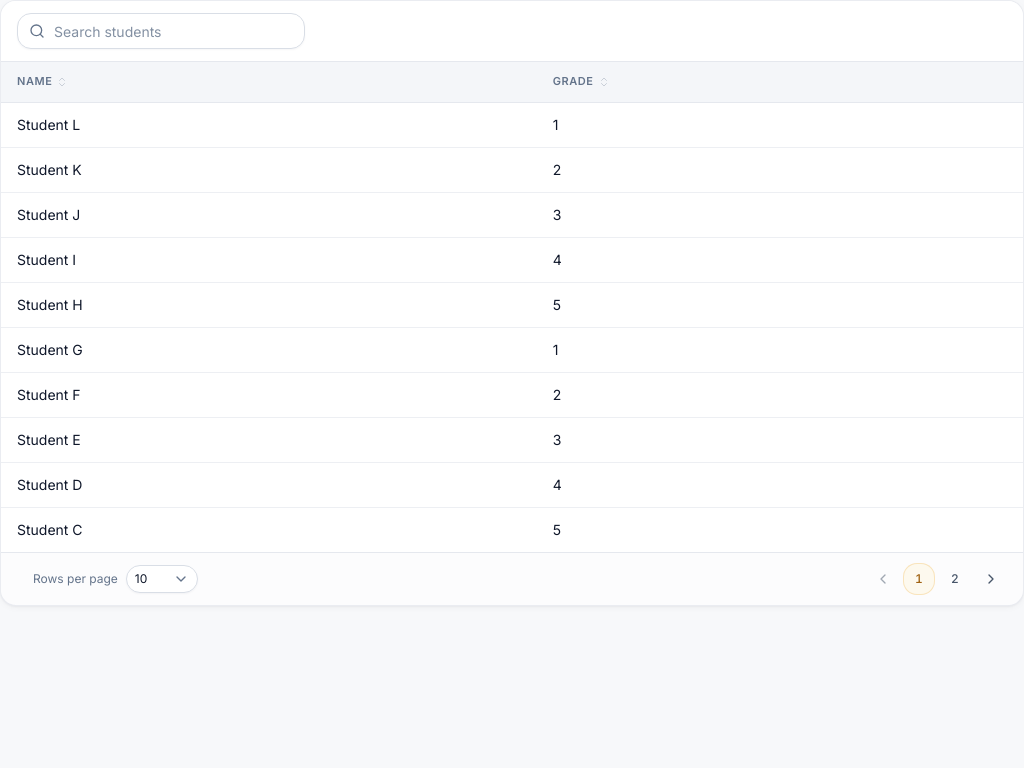
Scenario: DataTable › searches nested row data and offers to clear a search with no hits
Type "ravi" into the search field with placeholder "Search students" at (161, 31), box [17,13,305,49]
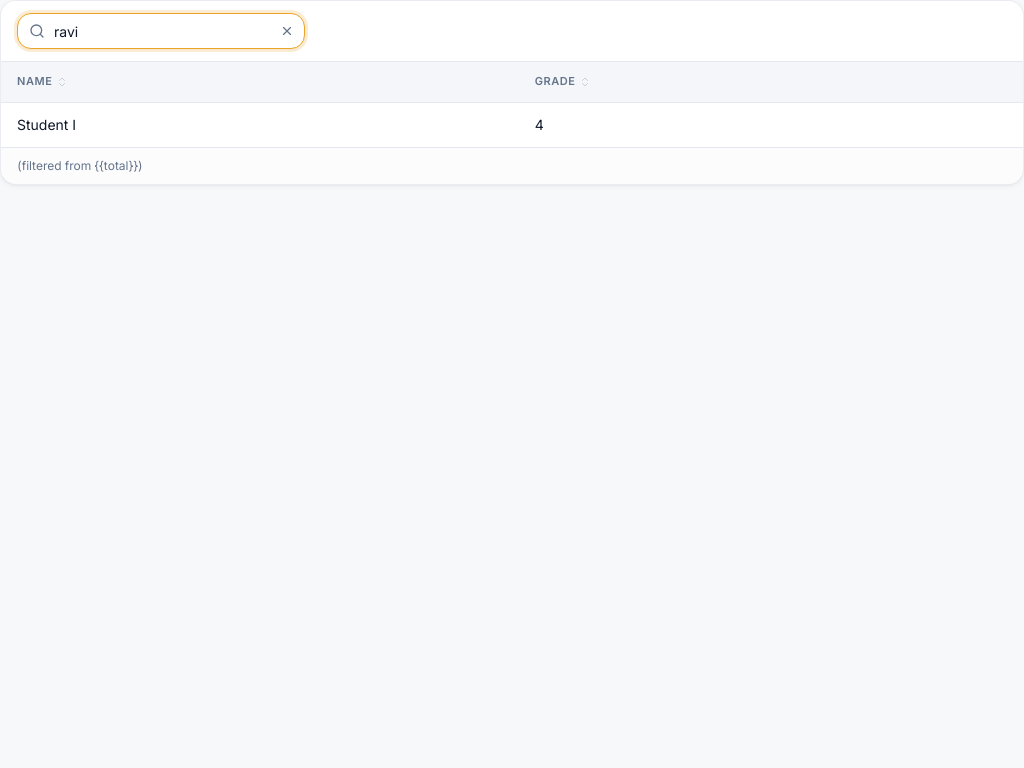
Replace the text in the search field with placeholder "Search students" with "nobody" at (161, 31), box [17,13,305,49]
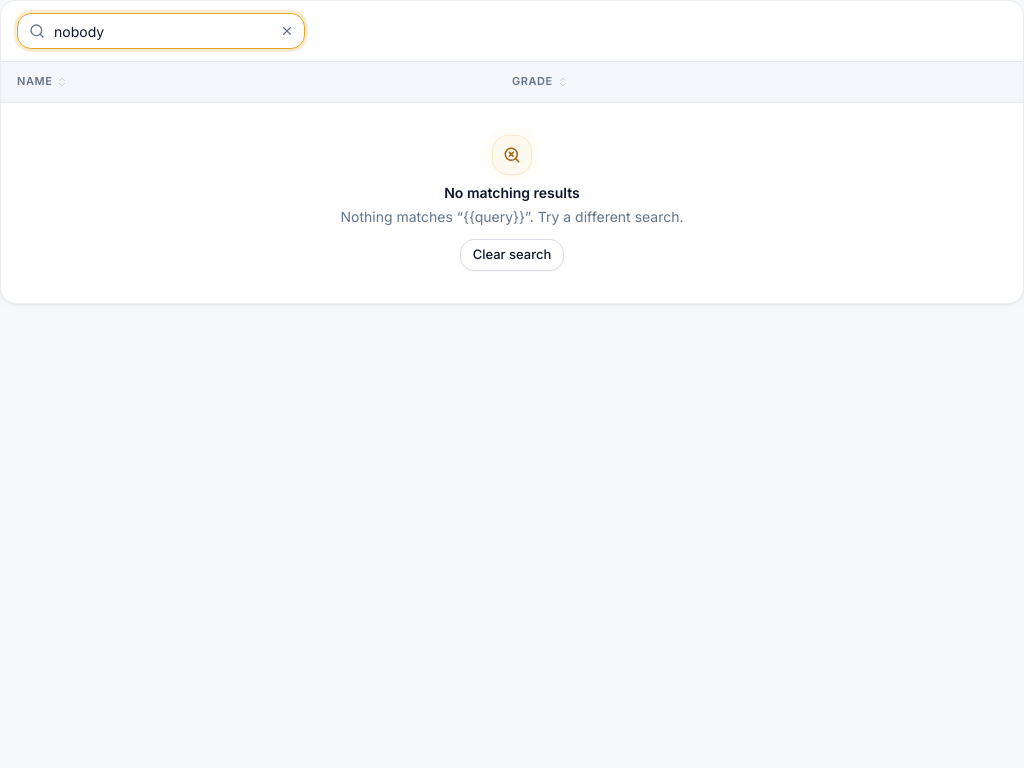
Now the text "No matching results" is shown, box [444,184,580,200]
Click the button "Clear search" at (512, 254), box [460,238,564,270]
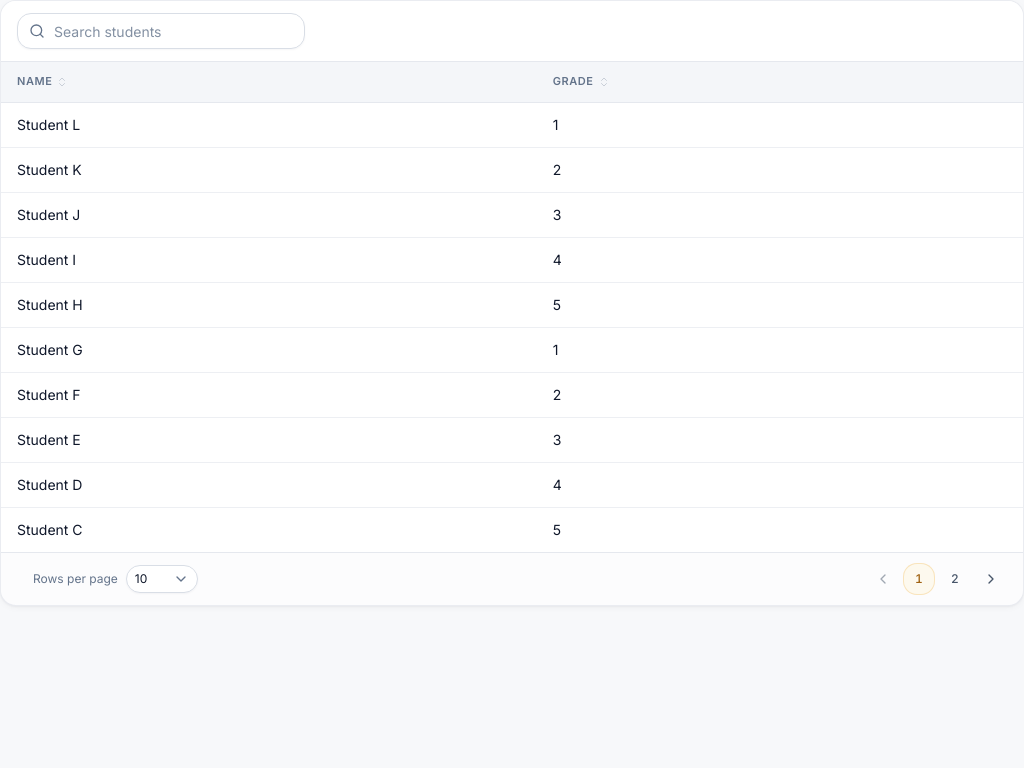
Now the text "No matching results" is gone
